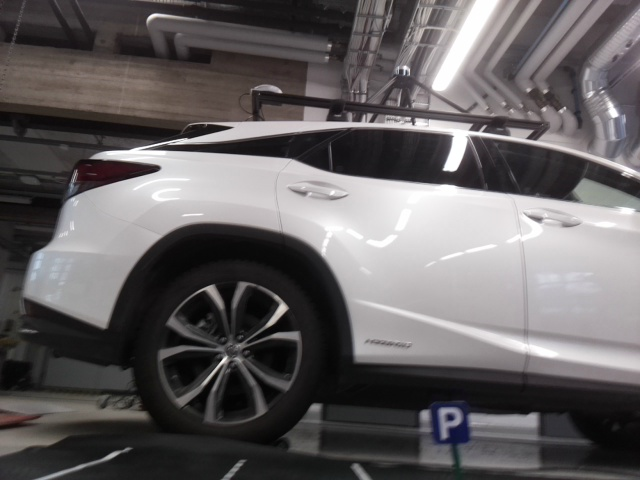Parking: (429, 402, 469, 443)
